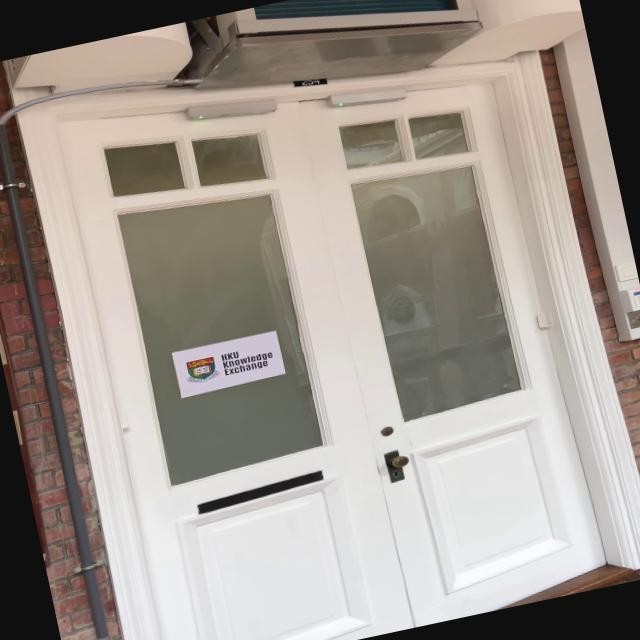room254: (292, 71, 330, 91)
